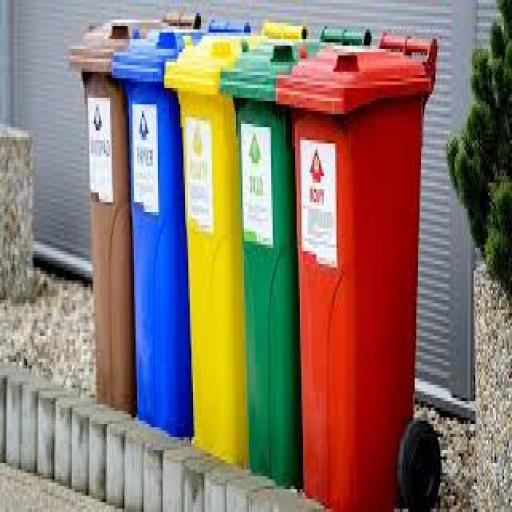poubelle_vide: (273, 0, 452, 512), (66, 10, 192, 440), (171, 26, 264, 505)
